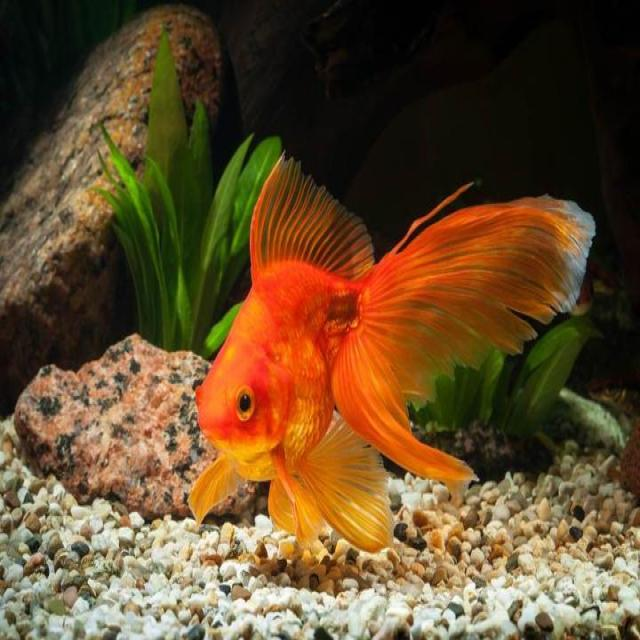GoldFish: (181, 144, 599, 553)
